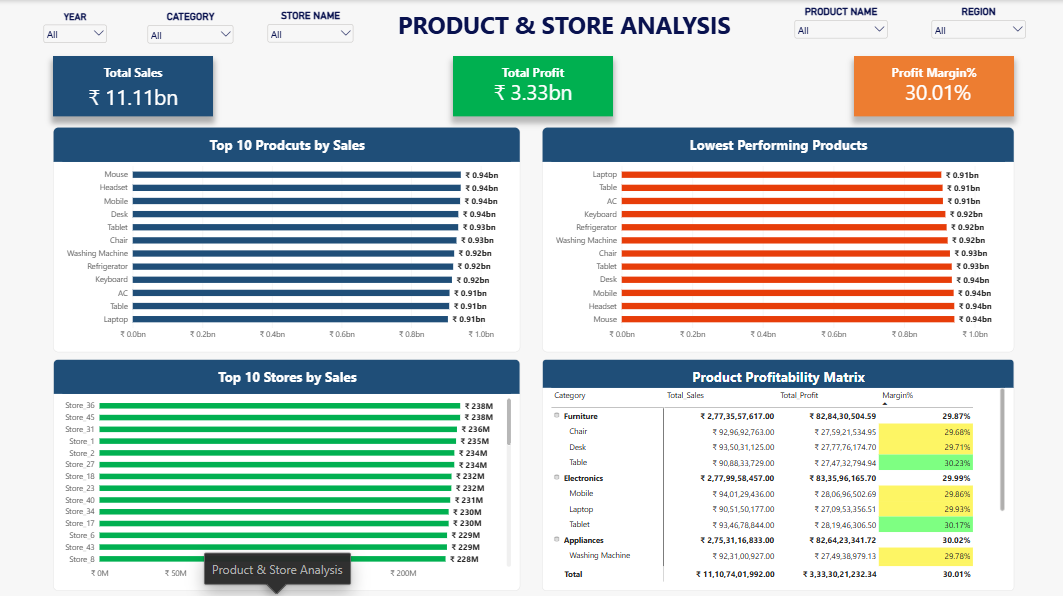

The dashboard page shown, as its layout file describes it:
{"tool":"powerbi","page":{"name":"Product & Store Analysis","canvas":[1920,1080],"ordinal":1},"visuals":[{"type":"textbox","box":[693.7,16.5,654.5,59.9],"z":0},{"type":"cardVisual","title":"Total Sales","fields":{"Data":["Fact_Sales.Total_Sales"]},"box":[97,101,289,109.4],"z":1000},{"type":"cardVisual","title":"Total Profit","fields":{"Data":["Fact_Sales.Total_Profit"]},"box":[820.6,101,289,109.4],"z":2000},{"type":"cardVisual","title":"Profit Margin%","fields":{"Data":["Fact_Sales.Margin%"]},"box":[1544.3,101,289,109.4],"z":3000},{"type":"clusteredBarChart","title":"Top 10 Prodcuts by Sales","fields":{"Category":["Dim_Product.Product_Name"],"Y":["Fact_Sales.Total_Sales"]},"box":[97,229.2,844.4,406.7],"z":4000},{"type":"clusteredBarChart","title":"Lowest Performing Products","fields":{"Category":["Dim_Product.Product_Name"],"Y":["Fact_Sales.Total_Sales"]},"box":[980.6,229.2,852.6,406.7],"z":5000},{"type":"clusteredBarChart","title":"Top 10 Stores by Sales","fields":{"Category":["Dim_Store.Store_Name"],"Y":["Fact_Sales.Total_Sales"]},"box":[97,648.1,844.4,419.1],"z":6000},{"type":"pivotTable","title":"Product Profitability Matrix","fields":{"Rows":["Dim_Product.Category","Dim_Product.Product_Name"],"Values":["Fact_Sales.Total_Sales","Fact_Sales.Total_Profit","Fact_Sales.Margin%"]},"box":[980.6,648.1,852.6,419.1],"z":7000},{"type":"slicer","title":"YEAR","fields":{"Values":["Dim_Calendar.Year"]},"box":[70.2,14.5,134.2,78.5],"z":8000},{"type":"slicer","title":"CATEGORY","fields":{"Values":["Dim_Product.Category"]},"box":[258.1,14.5,175.5,84.6],"z":9000},{"type":"slicer","title":"STORE NAME","fields":{"Values":["Dim_Store.Store_Name"]},"box":[474.8,12.4,175.5,84.6],"z":10000},{"type":"slicer","title":"REGION","fields":{"Values":["Dim_Store.Region"]},"box":[1674.3,6.2,189.9,84.6],"z":11000},{"type":"slicer","title":"PRODUCT NAME","fields":{"Values":["Dim_Product.Product_Name"]},"box":[1426.6,6.2,187.9,82.6],"z":12000}]}

Visuals, with their boxes in screenshot pixels (x1, y1, x2, y2), scaled from the page's 1920x1080 canvas onto the 1063x596 screenshot:
textbox: <box>384,9,746,42</box>
"Total Sales" cardVisual: <box>54,56,214,116</box>
"Total Profit" cardVisual: <box>454,56,614,116</box>
"Profit Margin%" cardVisual: <box>855,56,1015,116</box>
"Top 10 Prodcuts by Sales" clusteredBarChart: <box>54,126,521,351</box>
"Lowest Performing Products" clusteredBarChart: <box>543,126,1015,351</box>
"Top 10 Stores by Sales" clusteredBarChart: <box>54,358,521,589</box>
"Product Profitability Matrix" pivotTable: <box>543,358,1015,589</box>
"YEAR" slicer: <box>39,8,113,51</box>
"CATEGORY" slicer: <box>143,8,240,55</box>
"STORE NAME" slicer: <box>263,7,360,54</box>
"REGION" slicer: <box>927,3,1032,50</box>
"PRODUCT NAME" slicer: <box>790,3,894,49</box>
